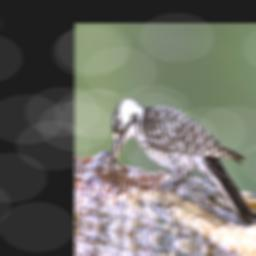Woodpecker: (106, 93, 256, 226)
